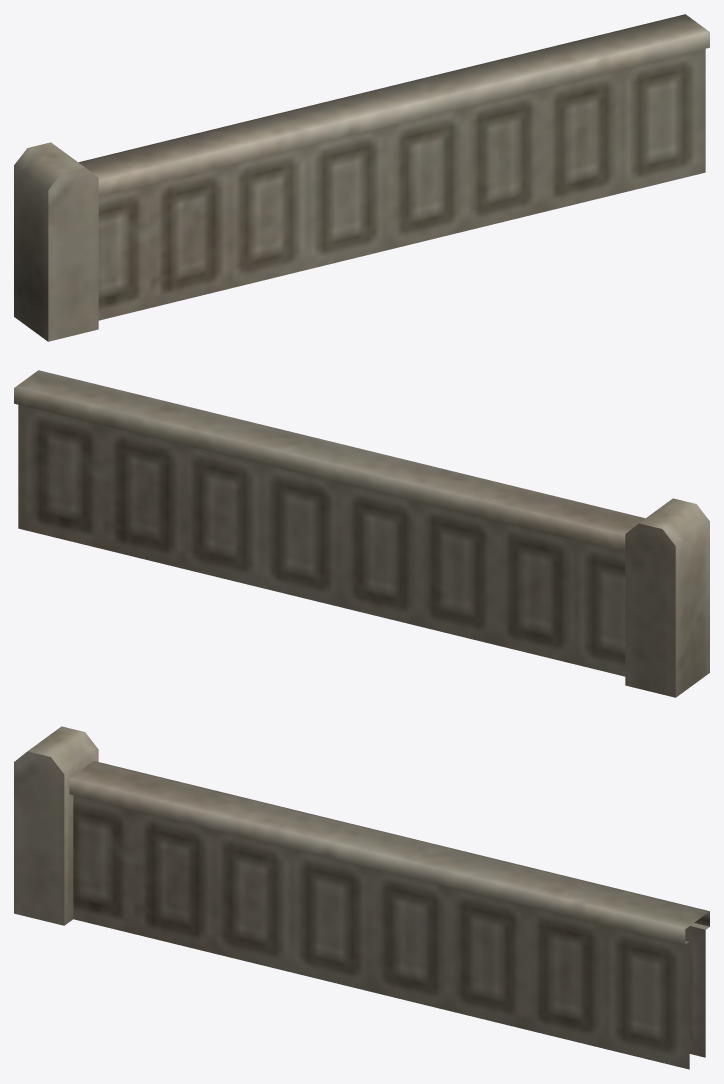
Rendered from Wall_Low.FBX.
The picture shows the model from 3 angles, top to bottom: view 1: azimuth 30°, elevation 25°; view 2: azimuth 150°, elevation 25°; view 3: azimuth 330°, elevation 25°; orthographic projection.
Visible parts, largest first — view 1: Wall_Low; view 2: Wall_Low; view 3: Wall_Low.
Boxes of the visible parts, left/top/right/bottom form: Wall_Low: left=14, top=14, right=709, bottom=341; Wall_Low: left=14, top=370, right=709, bottom=697; Wall_Low: left=14, top=726, right=709, bottom=1069.
Size of the model in its own units: 832 by 197 by 73.89.
